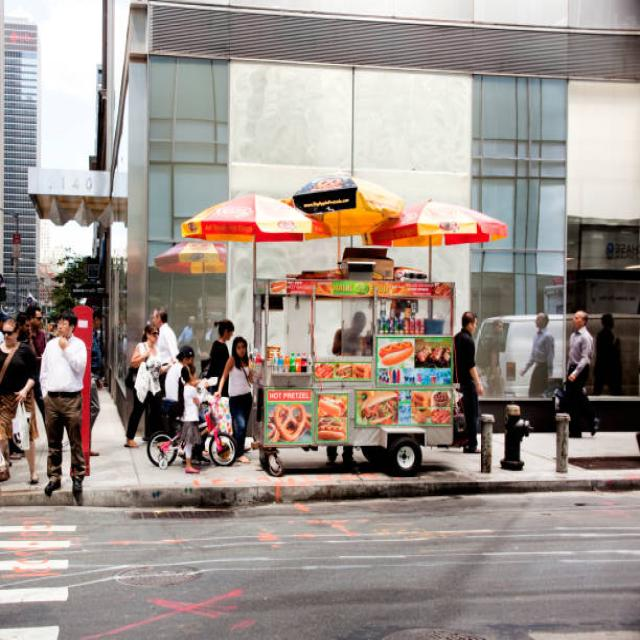Emperan: (171, 150, 515, 508)
